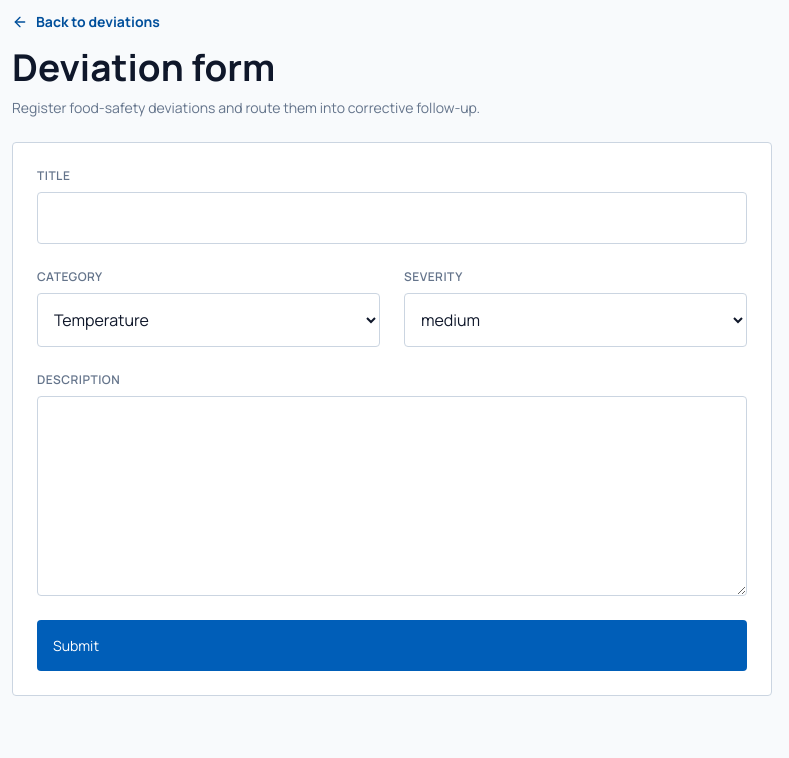
Test: DeviationFormPage › shows the API error message when deviation creation fails
The image size is (789, 758).
Type "Deviation title" into the field with id "title" at point(392, 218), box [37,192,747,244]
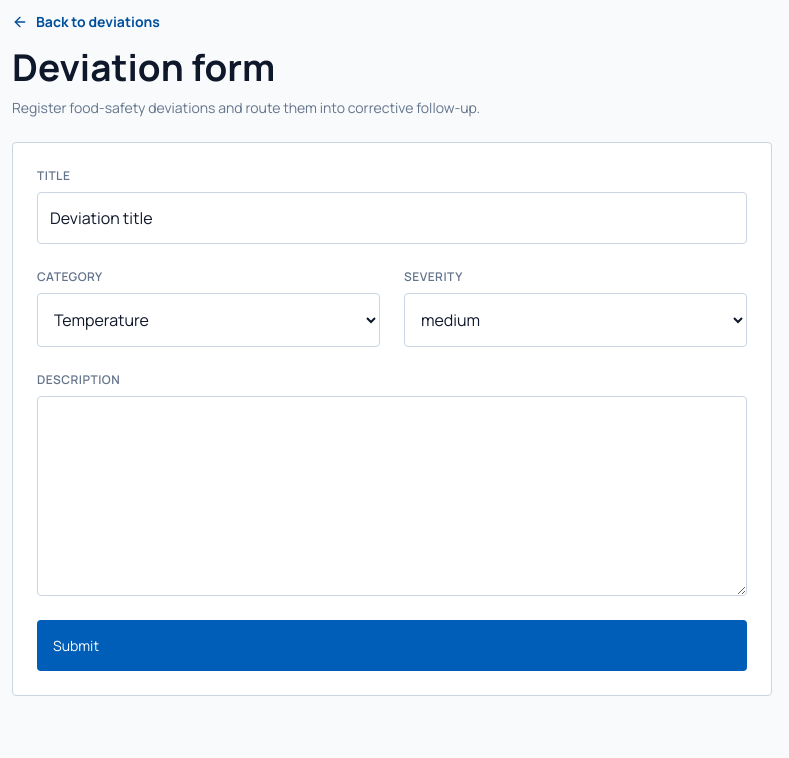
Type "Deviation description" into the text box with id "description" at point(392, 496), box [37,396,747,596]
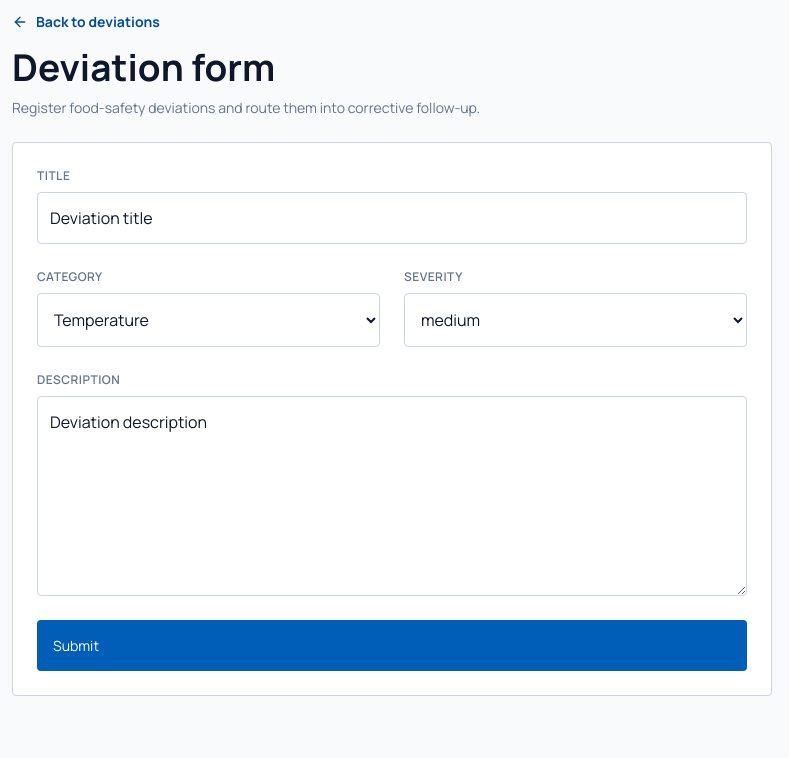
Submit the form
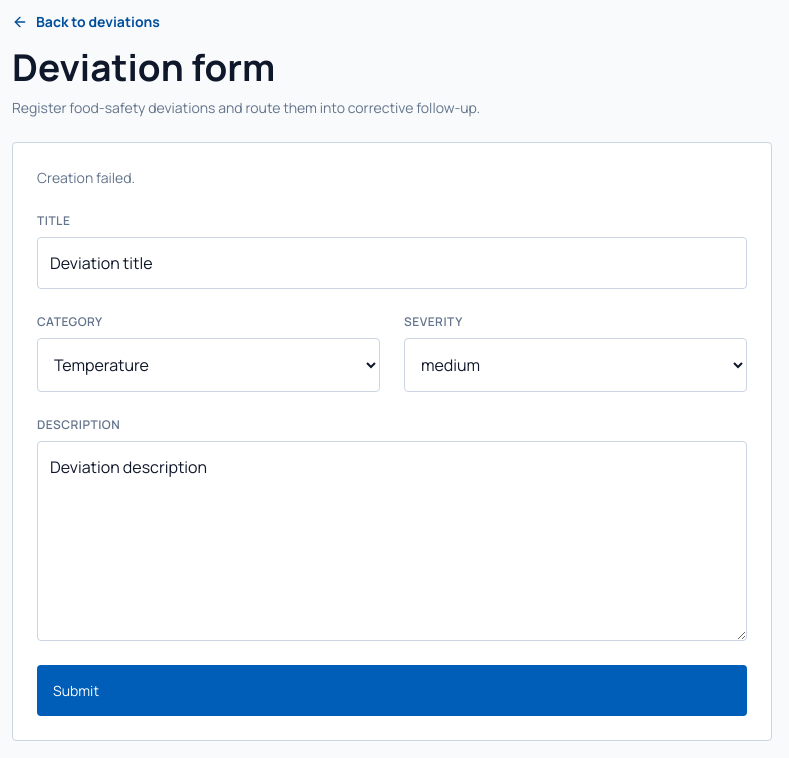
Check: the text "Creation failed." is shown, box [37,168,135,187]
